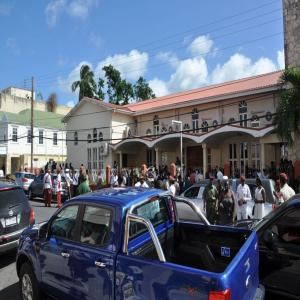Vehicle-registration-plate: (5, 216, 19, 228)
